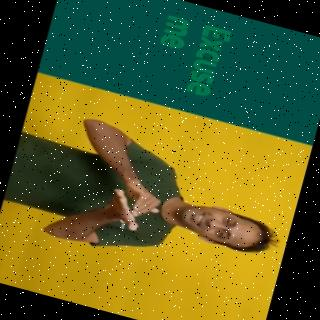ExcuseMe: (1, 103, 286, 289)
